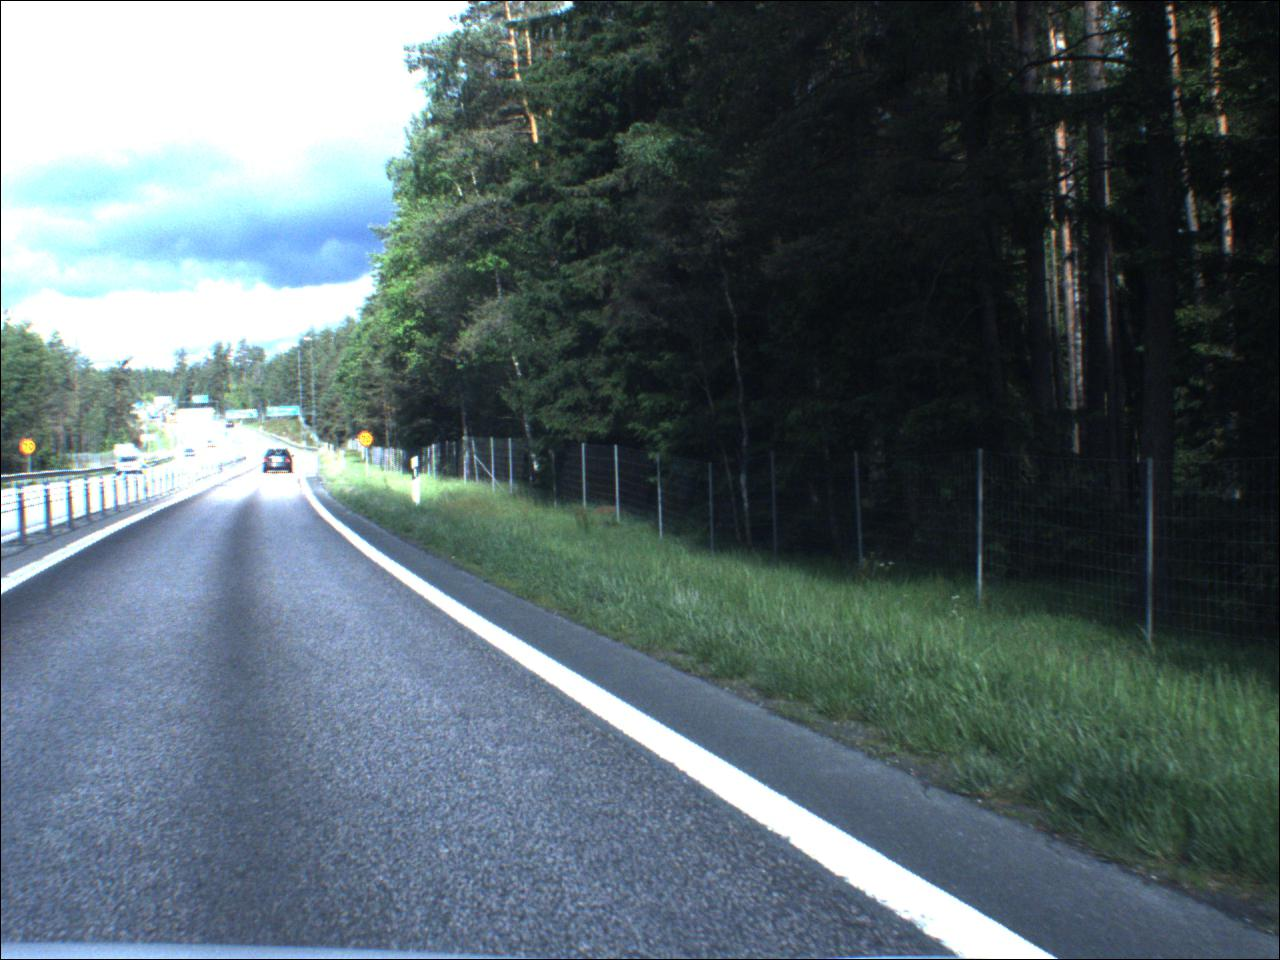70_SIGN: (19, 439, 39, 458), (360, 431, 376, 448)
